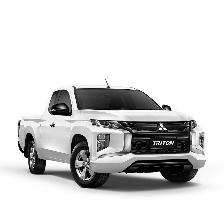NON-EV: (19, 78, 208, 189)
